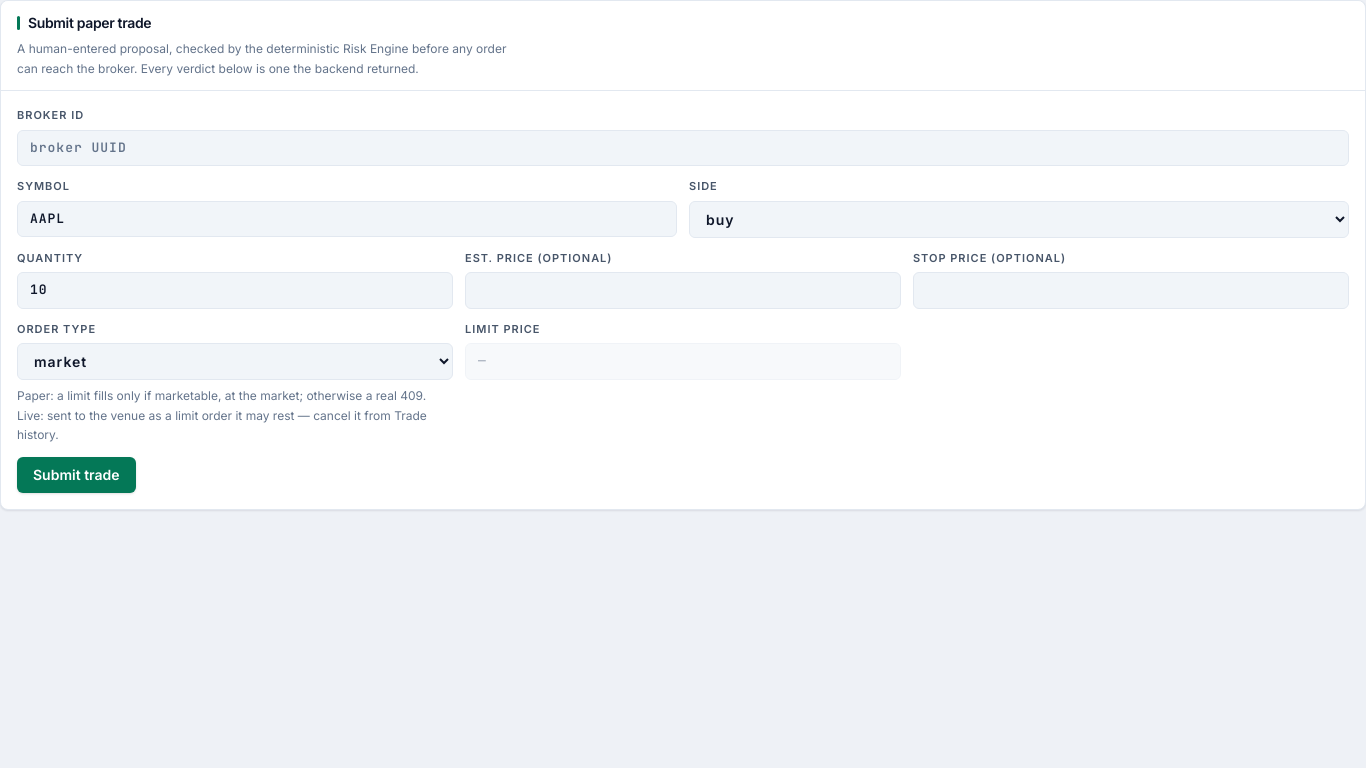
Test case: TradeForm › adds no Portfolio Manager panel when the action is 'approve'
In the field labelled "Broker ID": (683, 148) left=17, top=130, right=1349, bottom=166, type "11111111-1111-1111-1111-111111111111"
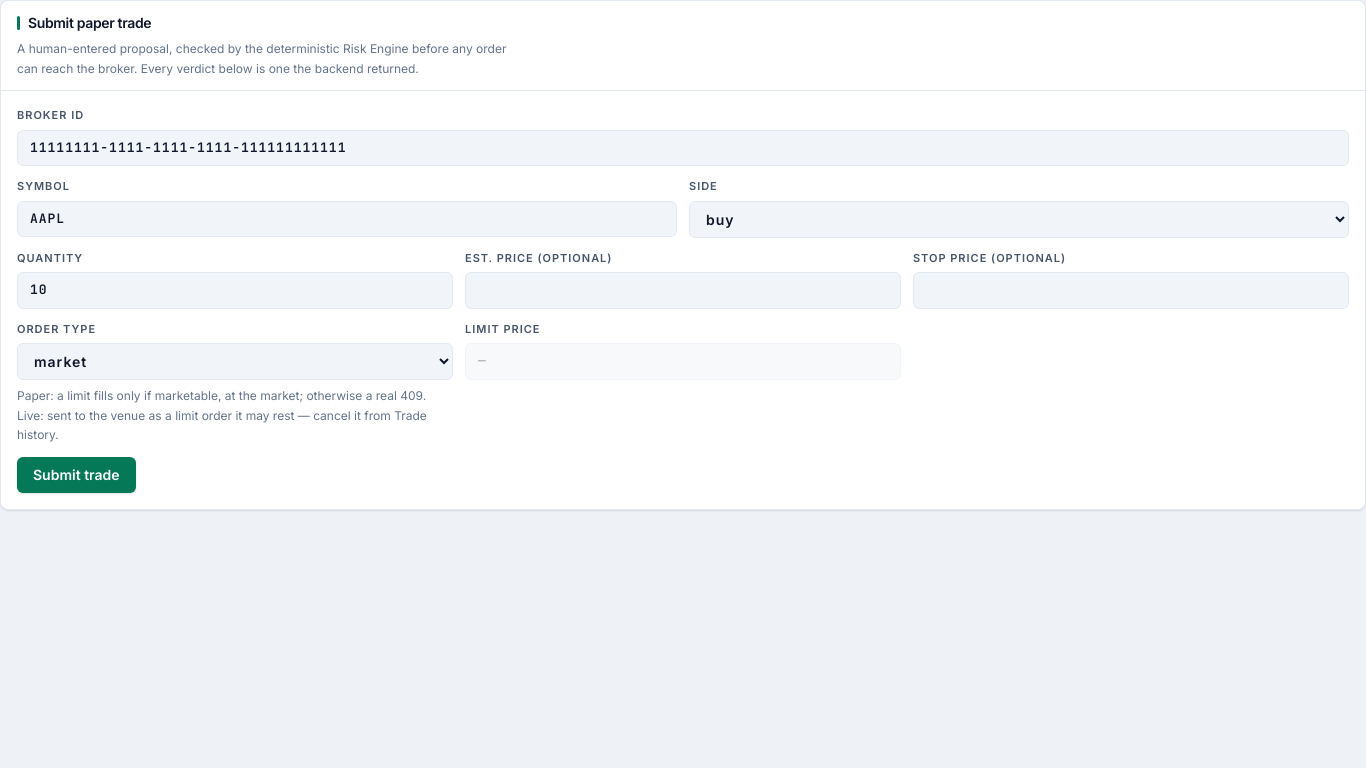
Click the button "Submit trade": (76, 475) left=17, top=457, right=136, bottom=493
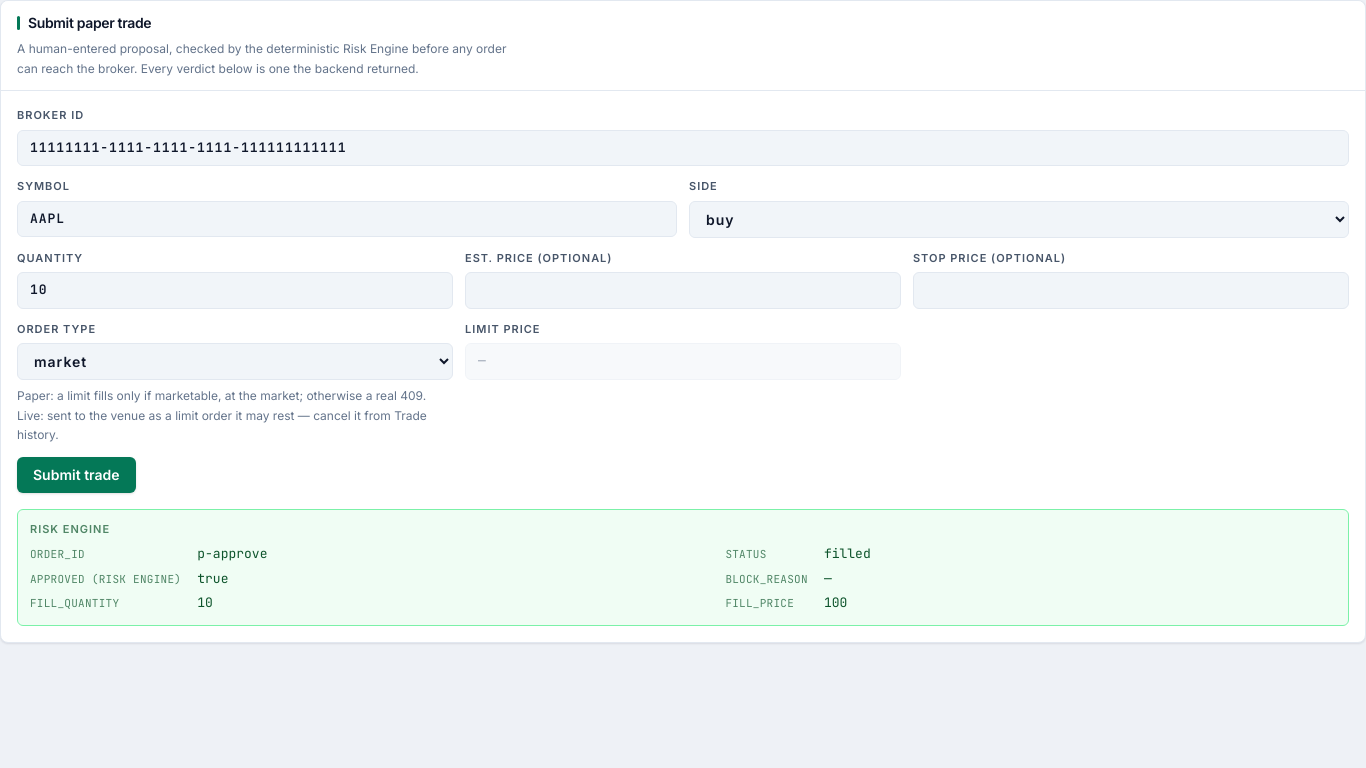
Now the element with test id "risk-verdict" is shown, box left=17, top=509, right=1349, bottom=626
Now the text "filled" is shown, box left=824, top=545, right=871, bottom=562
